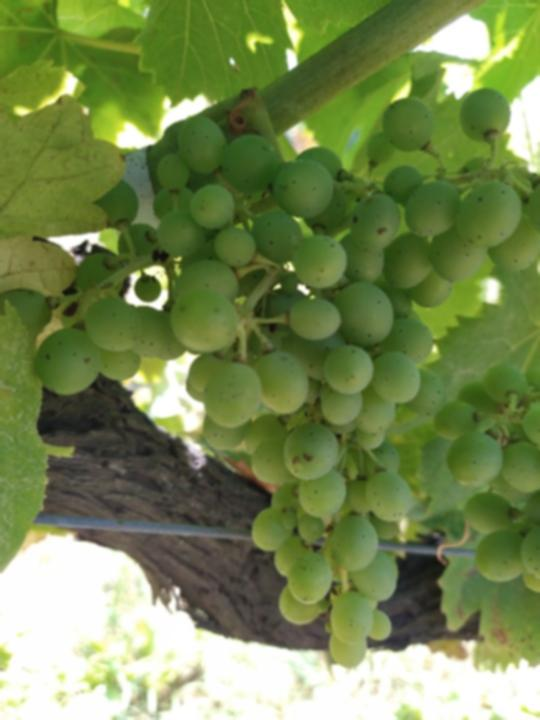grape: (6, 88, 537, 669)
